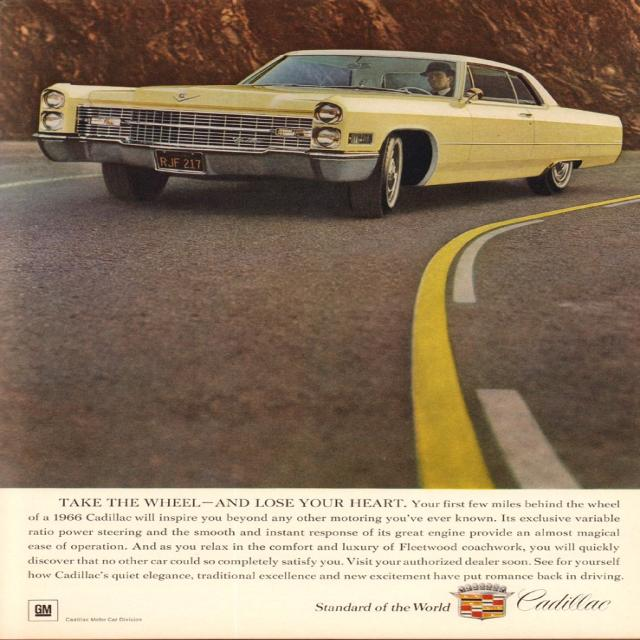car: (30, 45, 619, 210)
